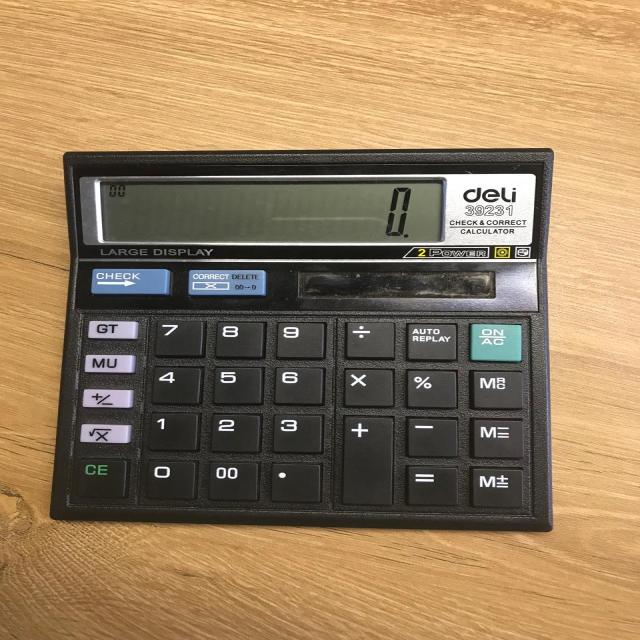calculator: (48, 146, 555, 532)
